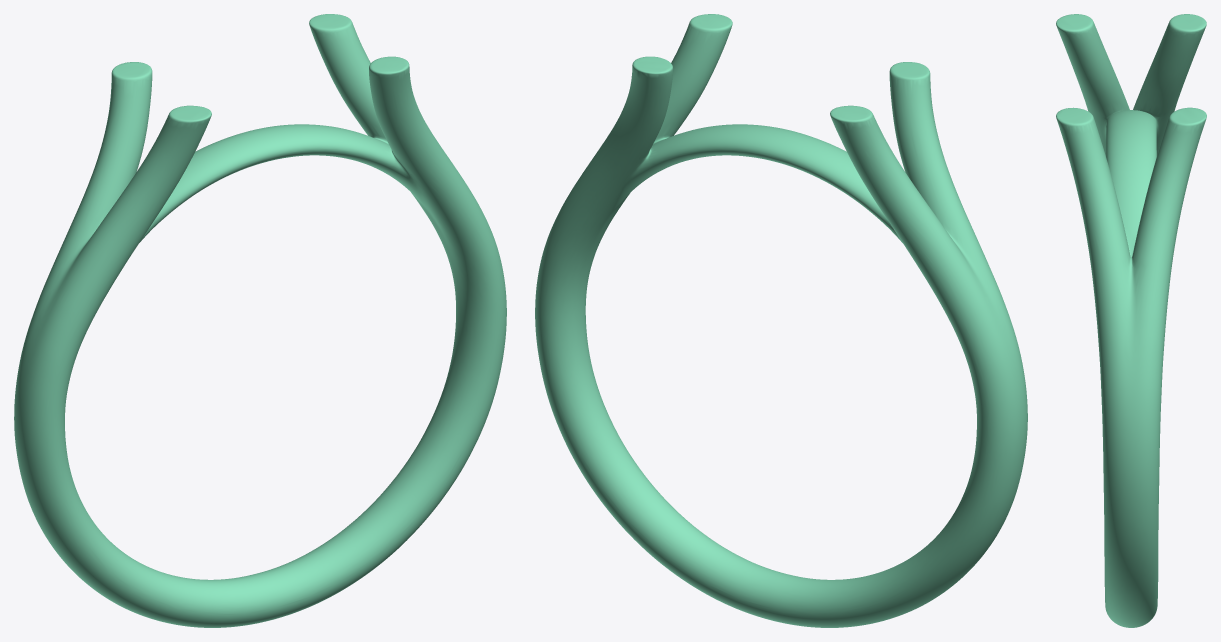
3 renders of one model, left to right at view 1: azimuth 30°, elevation 25°; view 2: azimuth 150°, elevation 25°; view 3: azimuth 270°, elevation 25°, orthographic. The views are drawn at different scales.
Visible parts, largest first — view 1: Metal02; view 2: Metal02; view 3: Metal02.
Part boxes in pixels (left/top/right/bottom): Metal02: left=14, top=14, right=506, bottom=627; Metal02: left=535, top=14, right=1027, bottom=627; Metal02: left=1056, top=14, right=1206, bottom=627.
Size of the model in its own units: 20.91 by 22.84 by 5.85.
